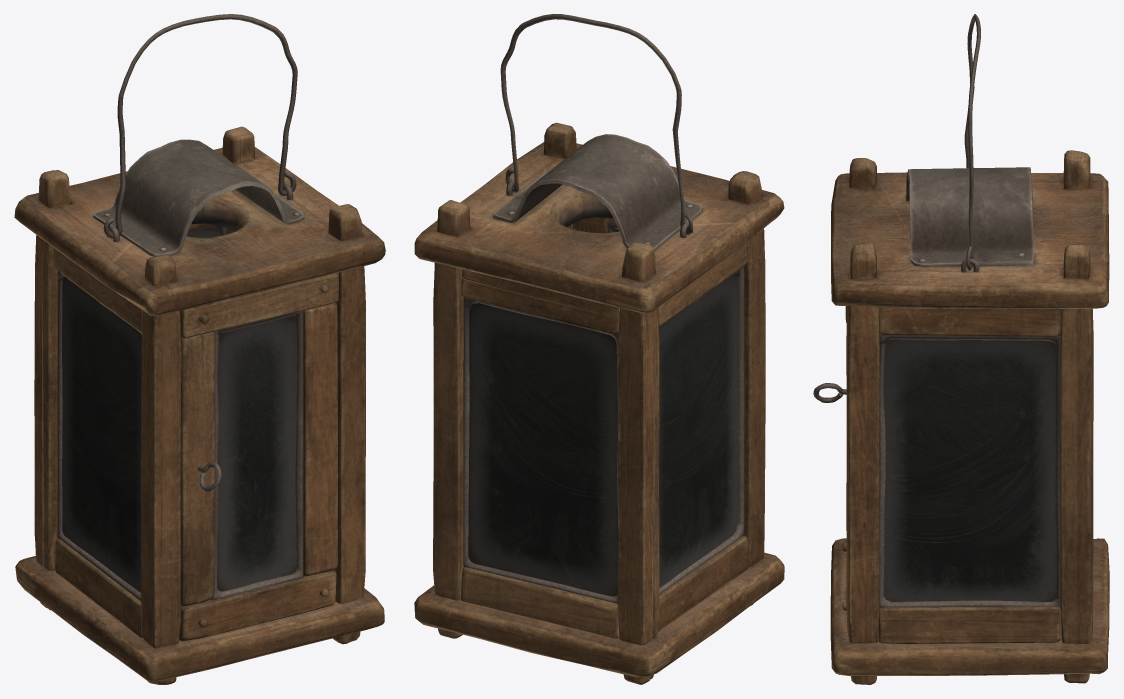
Rendered from wooden_lantern.glb.
3 renders of one model, left to right at view 1: azimuth 30°, elevation 25°; view 2: azimuth 150°, elevation 25°; view 3: azimuth 270°, elevation 25°, orthographic.
Parts seen in each view (by area): view 1: wooden_lantern_01, wooden_lantern_01_door, wooden_lantern_01_handle; view 2: wooden_lantern_01, wooden_lantern_01_handle, wooden_lantern_01_door; view 3: wooden_lantern_01, wooden_lantern_01_handle, wooden_lantern_01_door.
Boxes of the visible parts, <box> form: wooden_lantern_01: <box>14,126,385,684</box>; wooden_lantern_01_door: <box>179,272,339,641</box>; wooden_lantern_01_handle: <box>103,14,297,238</box>; wooden_lantern_01: <box>414,122,784,684</box>; wooden_lantern_01_handle: <box>500,14,692,234</box>; wooden_lantern_01_door: <box>573,217,618,233</box>; wooden_lantern_01: <box>830,150,1109,684</box>; wooden_lantern_01_handle: <box>964,14,980,270</box>; wooden_lantern_01_door: <box>813,306,847,610</box>.
Bounding box in the file's own units: 0.2418 × 0.58 × 0.2568.
2 materials, 2 textured.
